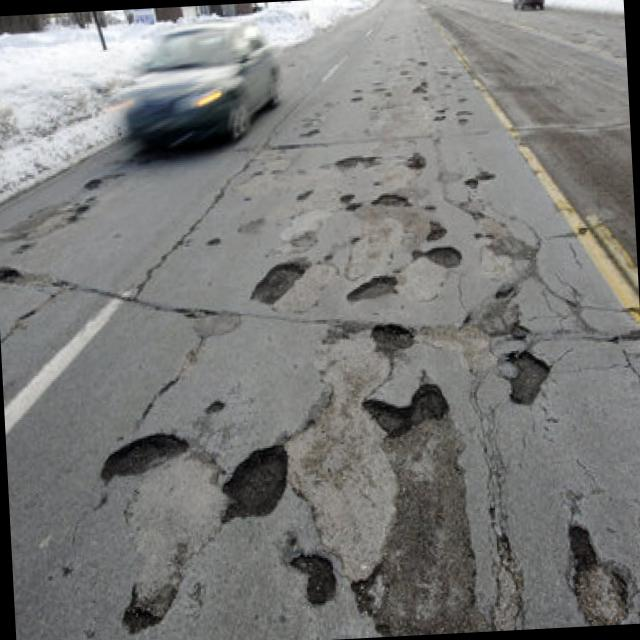Potholes: (334, 374, 486, 639), (0, 165, 115, 286), (90, 409, 208, 515), (206, 412, 320, 518), (558, 517, 640, 627), (108, 568, 216, 636), (269, 527, 352, 608), (496, 319, 562, 413), (250, 242, 324, 308), (412, 72, 478, 130), (340, 268, 420, 309), (405, 235, 475, 278), (368, 314, 426, 359), (457, 158, 512, 200), (368, 186, 426, 214), (350, 79, 399, 111), (327, 147, 381, 176), (404, 149, 435, 176), (298, 122, 321, 146)
